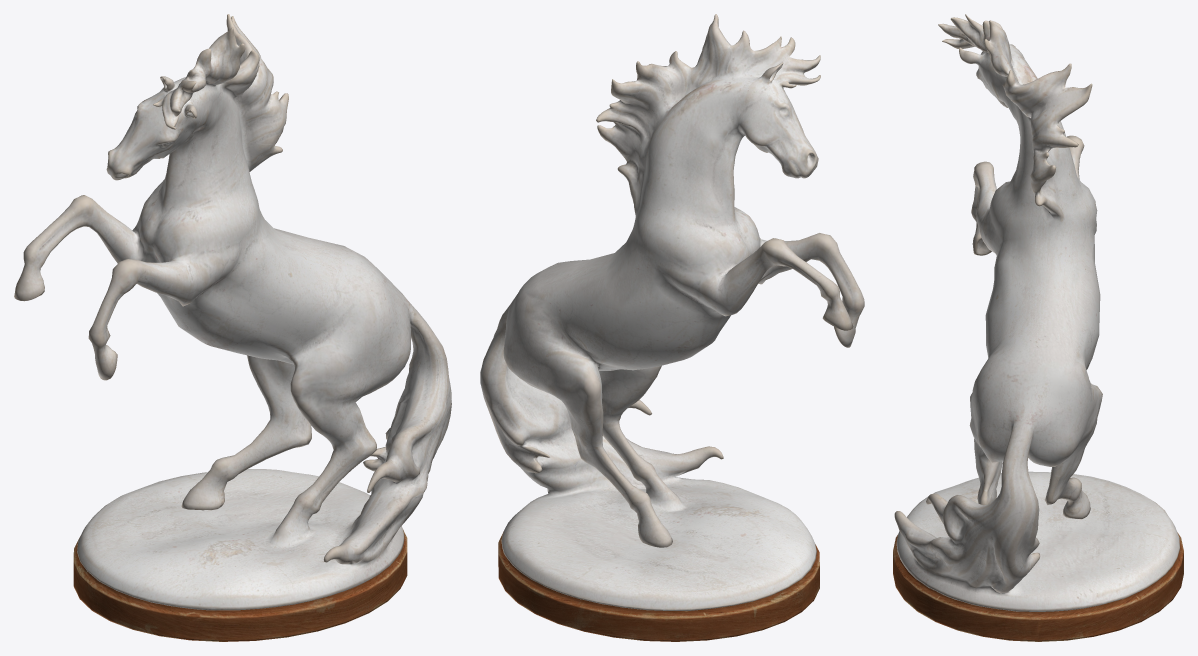
File: horse2.glb
3 renders of one model, left to right at view 1: azimuth 30°, elevation 25°; view 2: azimuth 150°, elevation 25°; view 3: azimuth 270°, elevation 25°, orthographic. The views are drawn at different scales.
Parts seen in each view (by area): view 1: horse_statue; view 2: horse_statue; view 3: horse_statue.
Boxes of the visible parts, x1=… form: horse_statue: x1=14, y1=14, x2=451, y2=641; horse_statue: x1=480, y1=14, x2=864, y2=641; horse_statue: x1=893, y1=14, x2=1183, y2=641.
Size of the model in its own units: 0.163 by 0.22 by 0.1078.
1 material, 1 textured.
